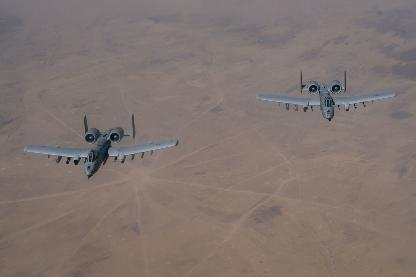A10: (23, 113, 179, 178), (254, 69, 396, 121)
